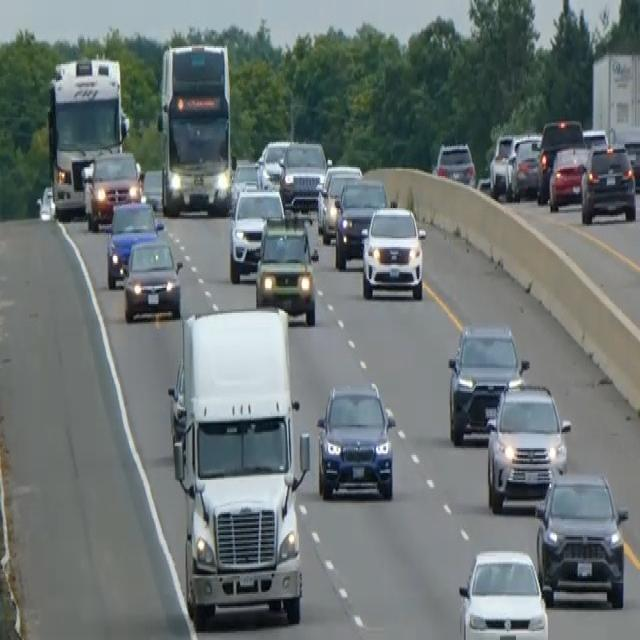bus: (45, 53, 127, 219), (157, 41, 233, 215)
car: (534, 469, 628, 610), (485, 379, 571, 512), (446, 320, 528, 444), (315, 381, 396, 502), (457, 546, 549, 638), (254, 214, 318, 326), (360, 202, 426, 300), (228, 185, 285, 283), (105, 197, 165, 288), (121, 235, 183, 322), (333, 176, 389, 268), (82, 150, 142, 230), (580, 140, 636, 224), (535, 117, 584, 203), (316, 162, 362, 242), (278, 138, 327, 210), (547, 140, 590, 212), (508, 133, 542, 199), (434, 138, 476, 186), (488, 132, 516, 198), (229, 156, 264, 208), (257, 137, 291, 185), (616, 128, 639, 192), (140, 167, 164, 212), (35, 183, 56, 222), (581, 126, 608, 151)
lorry: (166, 304, 310, 628)
